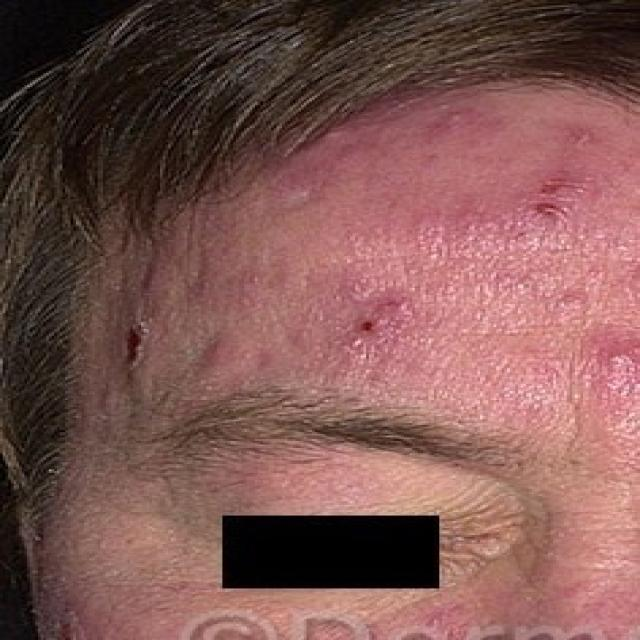Rosacea: (317, 139, 639, 399)
